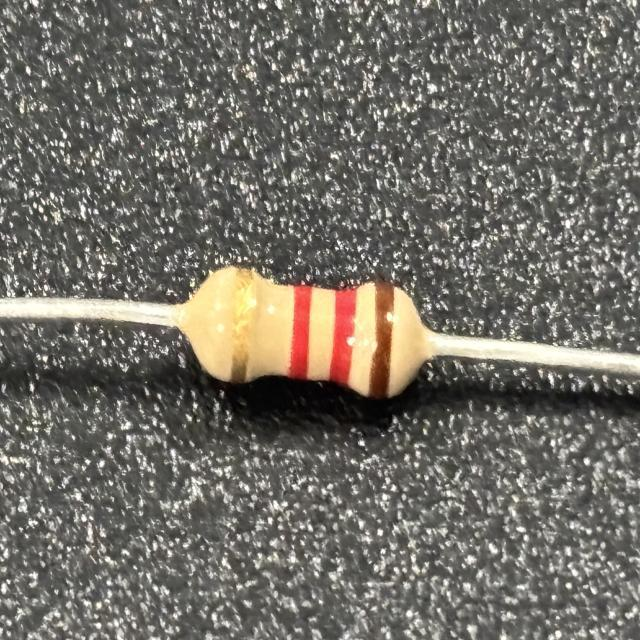resistor: (194, 263, 420, 414)
